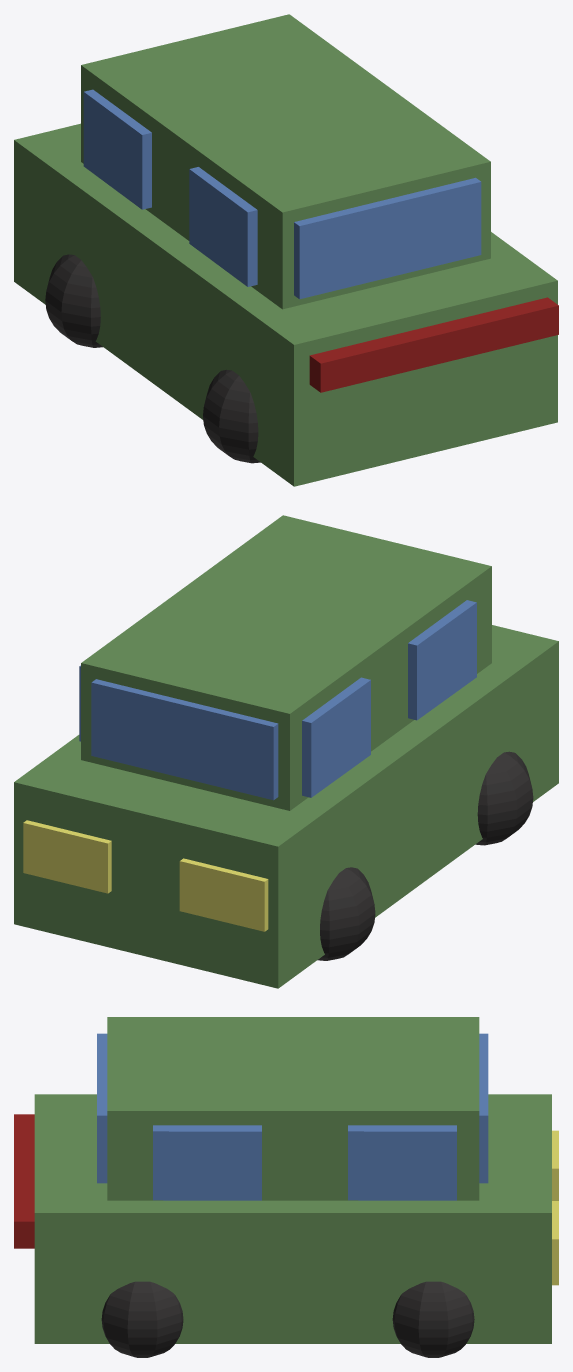
The model's file is car5.fbx.
3 views of the same model, one above another, from view 1: azimuth 30°, elevation 25°; view 2: azimuth 150°, elevation 25°; view 3: azimuth 270°, elevation 25° (orthographic). The views are drawn at different scales.
Visible parts, largest first — view 1: Cube.009, Cube.010, Cube.016, Cube.019, Cube.013, Cube.014, Sphere.008, Sphere.009; view 2: Cube.009, Cube.010, Cube.015, Cube.013, Cube.014, Cube.018, Cube.017, Sphere.009, Sphere.008; view 3: Cube.009, Cube.010, Cube.011, Cube.012, Sphere.006, Sphere.007, Cube.019, Cube.016, Cube.015, Cube.017, Cube.018.
Part boxes in pixels (x1=…): Cube.009: x1=14, y1=123, x2=557, y2=486; Cube.010: x1=81, y1=14, x2=490, y2=309; Cube.016: x1=294, y1=177, x2=481, y2=299; Cube.019: x1=309, y1=297, x2=558, y2=392; Cube.013: x1=83, y1=89, x2=151, y2=209; Cube.014: x1=189, y1=167, x2=257, y2=286; Sphere.008: x1=203, y1=369, x2=260, y2=463; Sphere.009: x1=45, y1=254, x2=102, y2=347; Cube.009: x1=14, y1=625, x2=558, y2=988; Cube.010: x1=81, y1=515, x2=491, y2=810; Cube.015: x1=91, y1=679, x2=278, y2=800; Cube.013: x1=302, y1=677, x2=370, y2=797; Cube.014: x1=408, y1=600, x2=476, y2=720; Cube.018: x1=179, y1=858, x2=268, y2=931; Cube.017: x1=23, y1=820, x2=111, y2=893; Sphere.009: x1=317, y1=867, x2=375, y2=960; Sphere.008: x1=475, y1=751, x2=533, y2=845; Cube.009: x1=34, y1=1094, x2=551, y2=1343; Cube.010: x1=107, y1=1017, x2=479, y2=1200; Cube.011: x1=348, y1=1125, x2=456, y2=1200; Cube.012: x1=153, y1=1125, x2=261, y2=1200; Sphere.006: x1=101, y1=1281, x2=183, y2=1357; Sphere.007: x1=392, y1=1281, x2=474, y2=1357; Cube.019: x1=14, y1=1114, x2=34, y2=1248; Cube.016: x1=97, y1=1033, x2=107, y2=1183; Cube.015: x1=479, y1=1033, x2=488, y2=1183; Cube.017: x1=552, y1=1201, x2=558, y2=1285; Cube.018: x1=552, y1=1130, x2=558, y2=1200.
Size of the model in its own units: 166 by 132 by 273.
